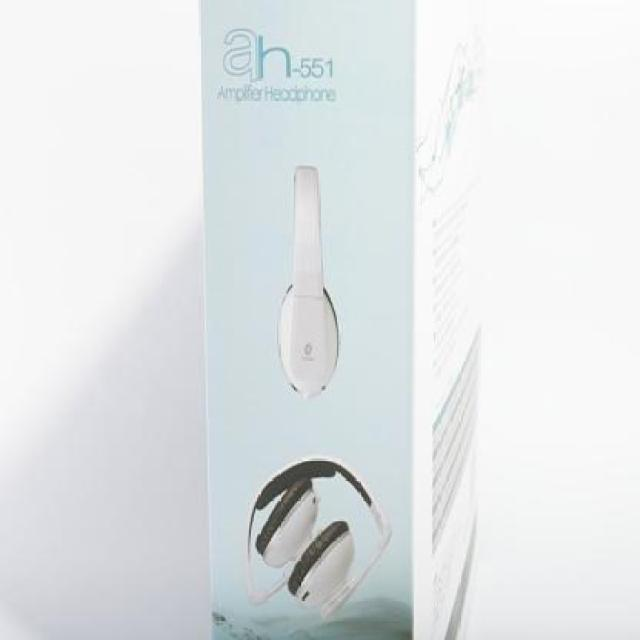earphone: (262, 150, 383, 405), (235, 439, 391, 625)
